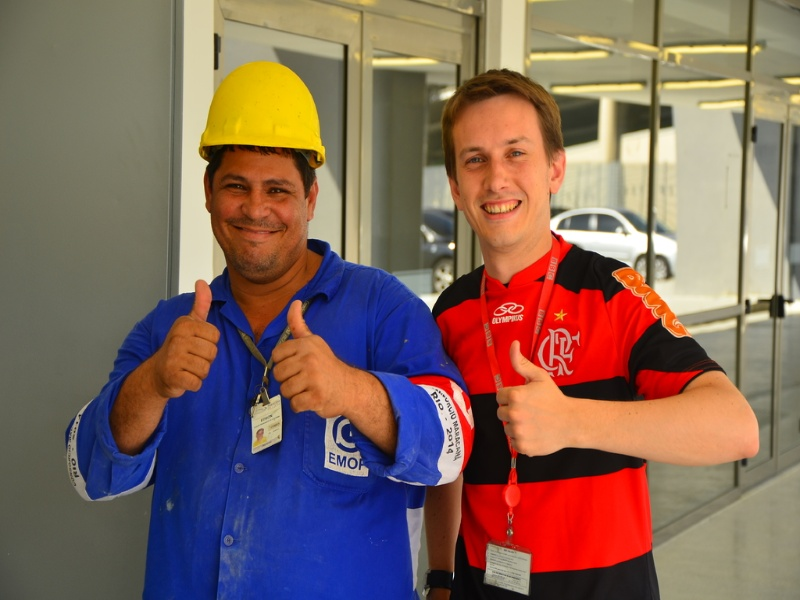Baret: (200, 61, 327, 161)
